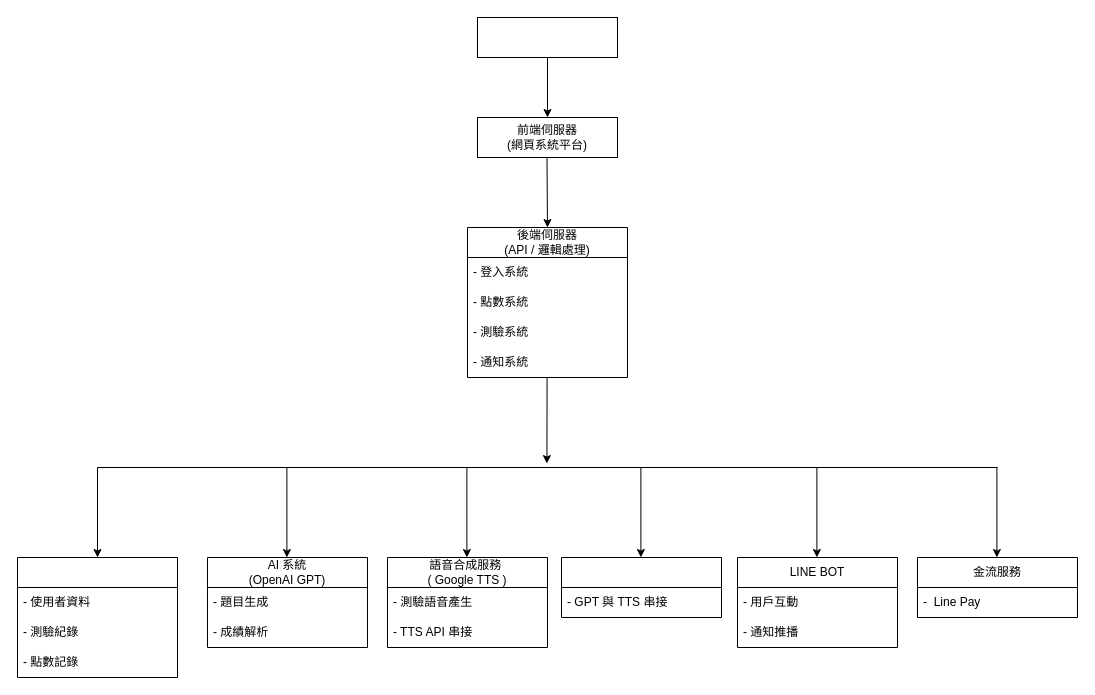
Image size: 1095x695. Some labels were removed from this diagram. The shapes that lost their labels are listed below. From the top down, each one's box as (x1, y1, x2, y2) in pixels, then its label:
(476, 16, 618, 58): 使用者裝置 (瀏覽器)
(560, 556, 722, 618): 自動化流程平台 （n8n）
(16, 556, 178, 678): 資料庫伺服器
